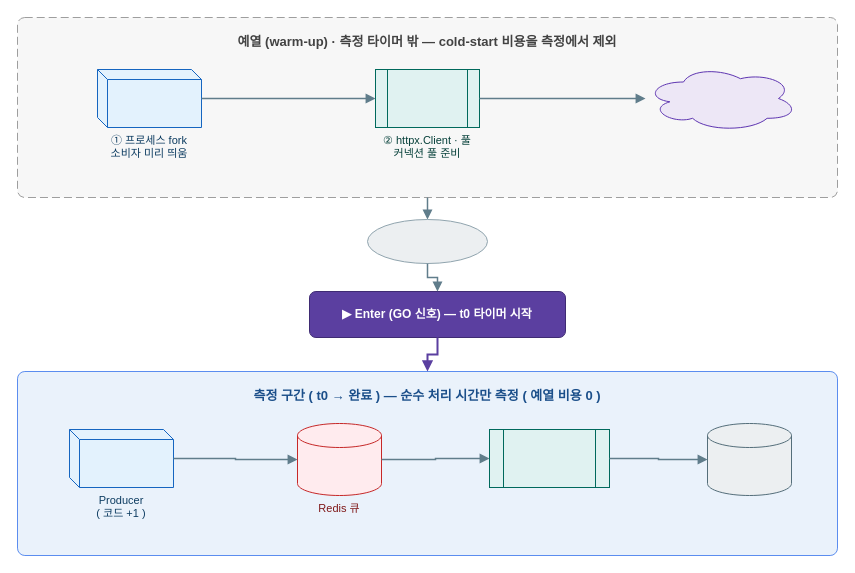
The diagram is 855 pixels wide and 573 high, and some of its shapes have lost their labels. The centre of each missing label's shape, as x and y in pixels:
Consumer ( P × C 코루틴 ): [549,458]
③ robots.txt 요청 DNS·TCP·TLS 예열: [721,98]
모든 소비자 READY: [427,241]
이미지 저장: [749,459]
